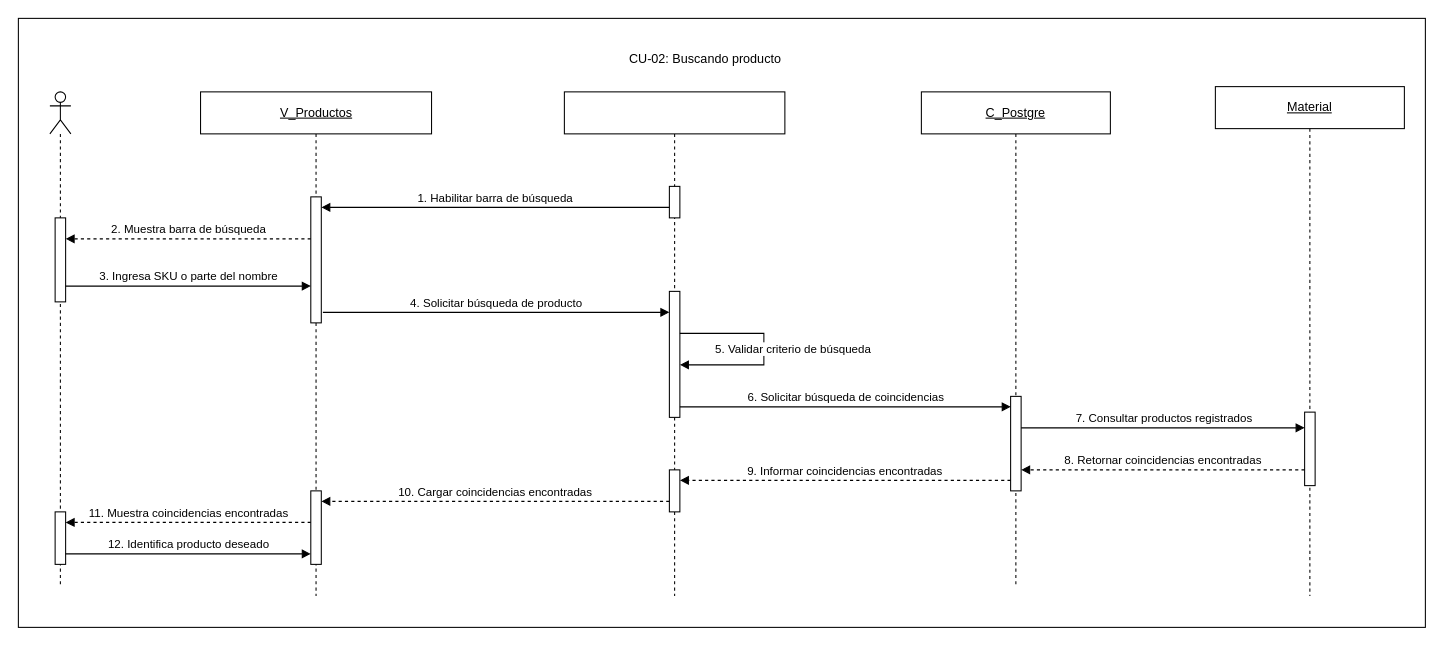
The diagram is 1444 pixels wide and 646 high, and some of its shapes have lost their labels. Each missing label, with the box of its shape:
C_ materiales: (563, 91, 785, 596)
Gerencia: (49, 91, 71, 585)
